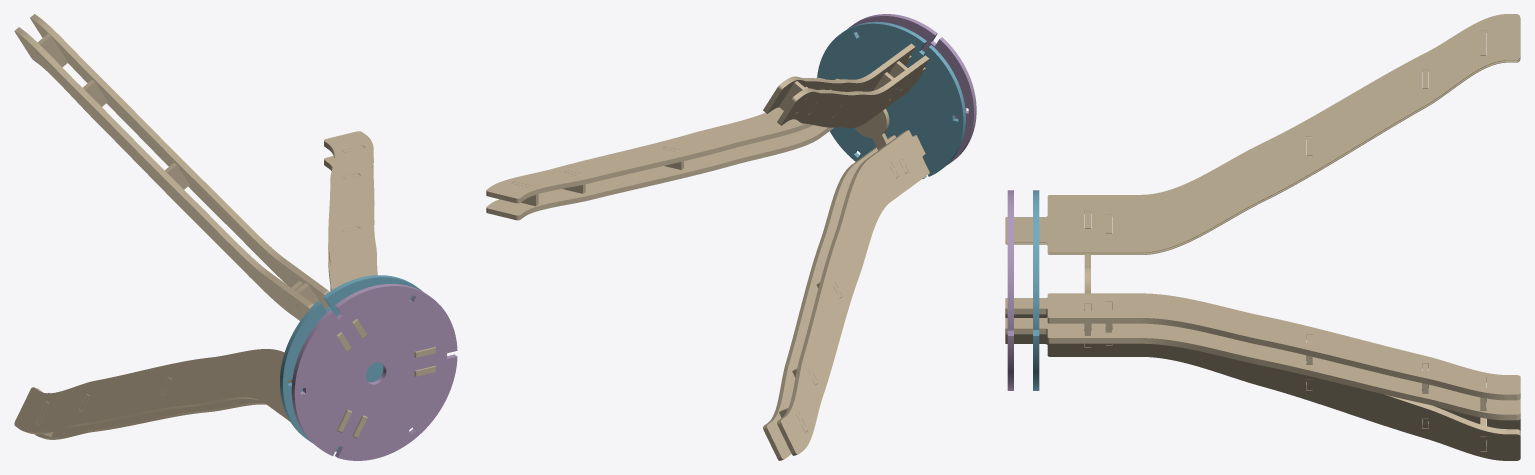
The model's file is actual-21-body-DESIGN_ONLY.glb.
The picture shows the model from 3 angles, left to right: view 1: azimuth 30°, elevation 25°; view 2: azimuth 150°, elevation 25°; view 3: azimuth 270°, elevation 25°; orthographic projection. The views are drawn at different scales.
Parts seen in each view (by area): view 1: P04U, L3_P01_1, L1_P01_2, L2_P01_2, L2_P01_1, P04L, L3_P01_2, L2_S1; view 2: L3_P01_1, P04L, L1_P01_2, L1_P01_1, L2_P01_2, L3_P01_2, P04U, L2_P01_1, P03; view 3: L2_P01_1, L1_P01_2, L3_P01_2, L1_P01_1, P04L, P04U, L2_P01_2, L3_P01_1, P03.
Part boxes in pixels (box(x1,y1,x2,y2)): P04U: box(291, 284, 457, 460); L3_P01_1: box(14, 349, 351, 434); L1_P01_2: box(324, 131, 435, 357); L2_P01_2: box(14, 27, 351, 351); L2_P01_1: box(30, 14, 367, 338); P04L: box(280, 275, 422, 451); L3_P01_2: box(35, 393, 367, 439); L2_S1: box(36, 34, 67, 69); L3_P01_1: box(777, 130, 929, 455); P04L: box(817, 21, 965, 178); L1_P01_2: box(486, 77, 840, 203); L1_P01_1: box(486, 125, 833, 220); L2_P01_2: box(777, 55, 929, 127); L3_P01_2: box(763, 135, 895, 460); P04U: box(848, 14, 976, 164); L2_P01_1: box(763, 43, 915, 113); P03: box(854, 61, 908, 173); L2_P01_1: box(1005, 14, 1520, 253); L1_P01_2: box(1005, 293, 1520, 400); L3_P01_2: box(1005, 327, 1520, 460); L1_P01_1: box(1005, 317, 1520, 420); P04L: box(1033, 190, 1039, 390); P04U: box(1007, 190, 1013, 390); L2_P01_2: box(1005, 31, 1520, 254); L3_P01_1: box(1005, 307, 1520, 439); P03: box(1084, 211, 1090, 346).
Size of the model in its own units: 0.4047 by 0.4673 by 0.488.
